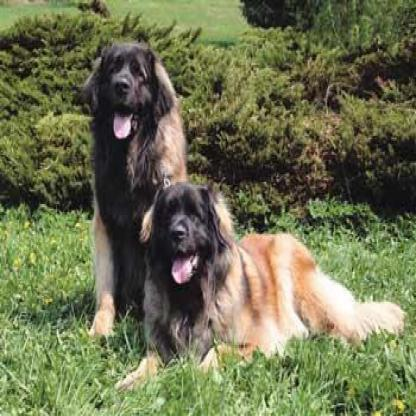Leonberg: (112, 179, 405, 386), (82, 43, 184, 335)
